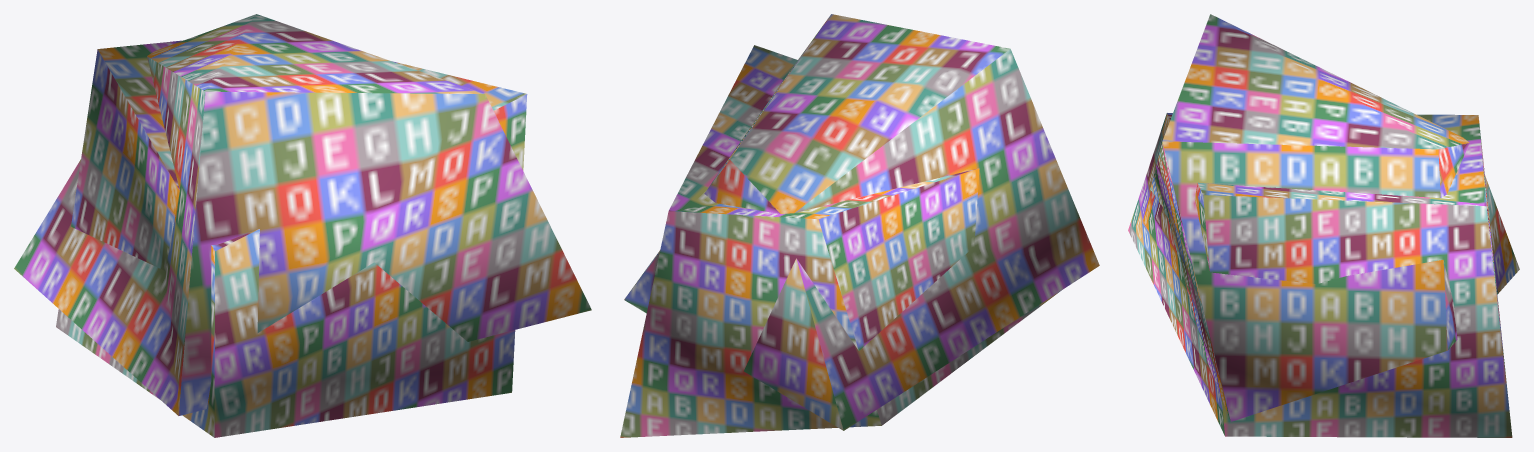
The model's file is Rock_1.obj.
3 renders of one model, left to right at view 1: azimuth 30°, elevation 25°; view 2: azimuth 150°, elevation 25°; view 3: azimuth 270°, elevation 25°, orthographic. The views are drawn at different scales.
Parts seen in each view (by area): view 1: Cube2, Cube1; view 2: Cube2, Cube1; view 3: Cube2, Cube1.
Boxes of the visible parts, x1,y1,x2,y2 form: Cube2: [14, 14, 591, 415]; Cube1: [56, 40, 527, 437]; Cube2: [624, 14, 1099, 430]; Cube1: [620, 45, 1061, 437]; Cube2: [1150, 14, 1519, 421]; Cube1: [1128, 113, 1512, 437].
Size of the model in its own units: 3.61 by 2.97 by 3.34.
2 materials, 2 textured.
